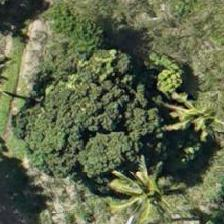coconut_tree: (94, 142, 184, 223), (149, 67, 223, 157)
